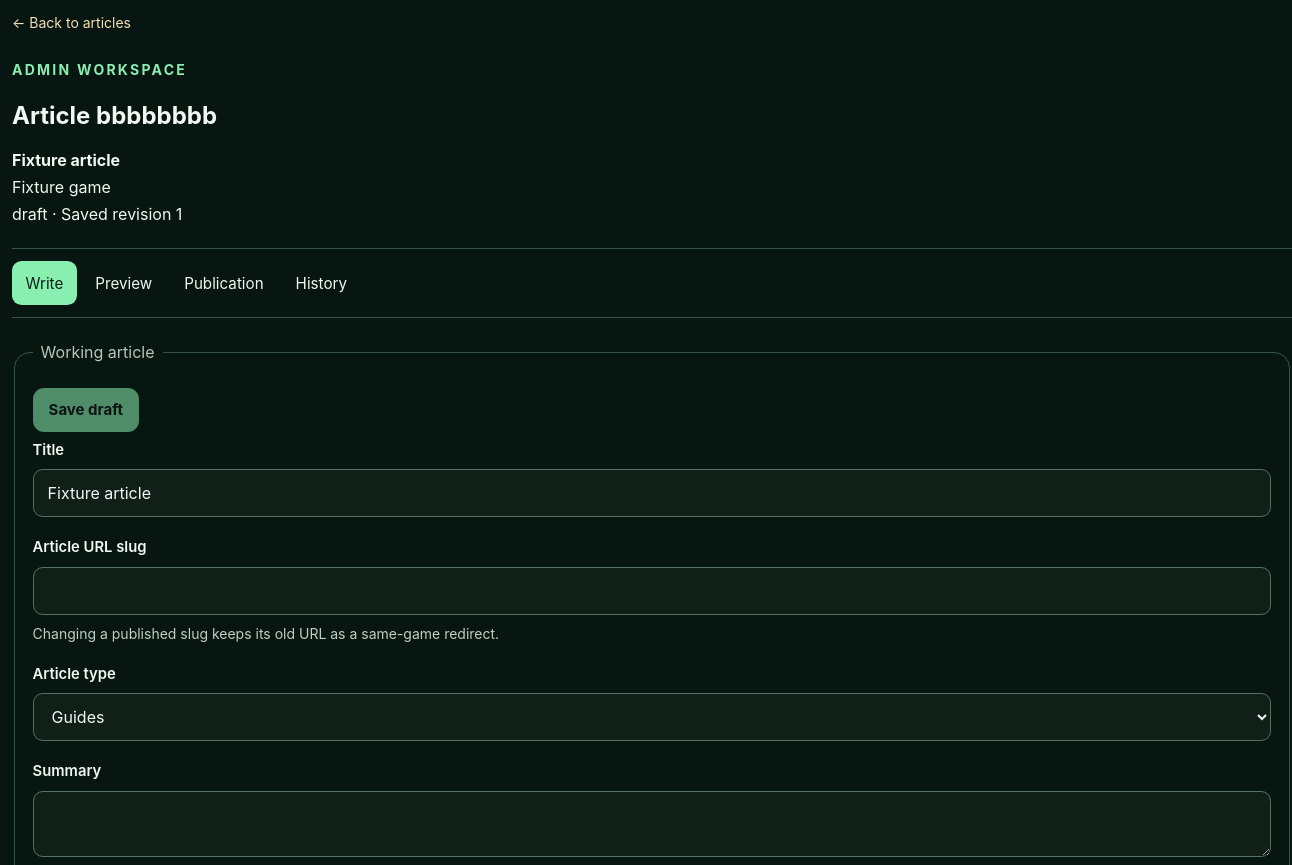
refreshes a revision conflict without overwriting the working draft
The width and height of the screenshot is (1292, 865).
Replace the text in the field labelled "Title" with "Keep this edit" at (652, 493), box x1=33 y1=469 x2=1271 y2=517
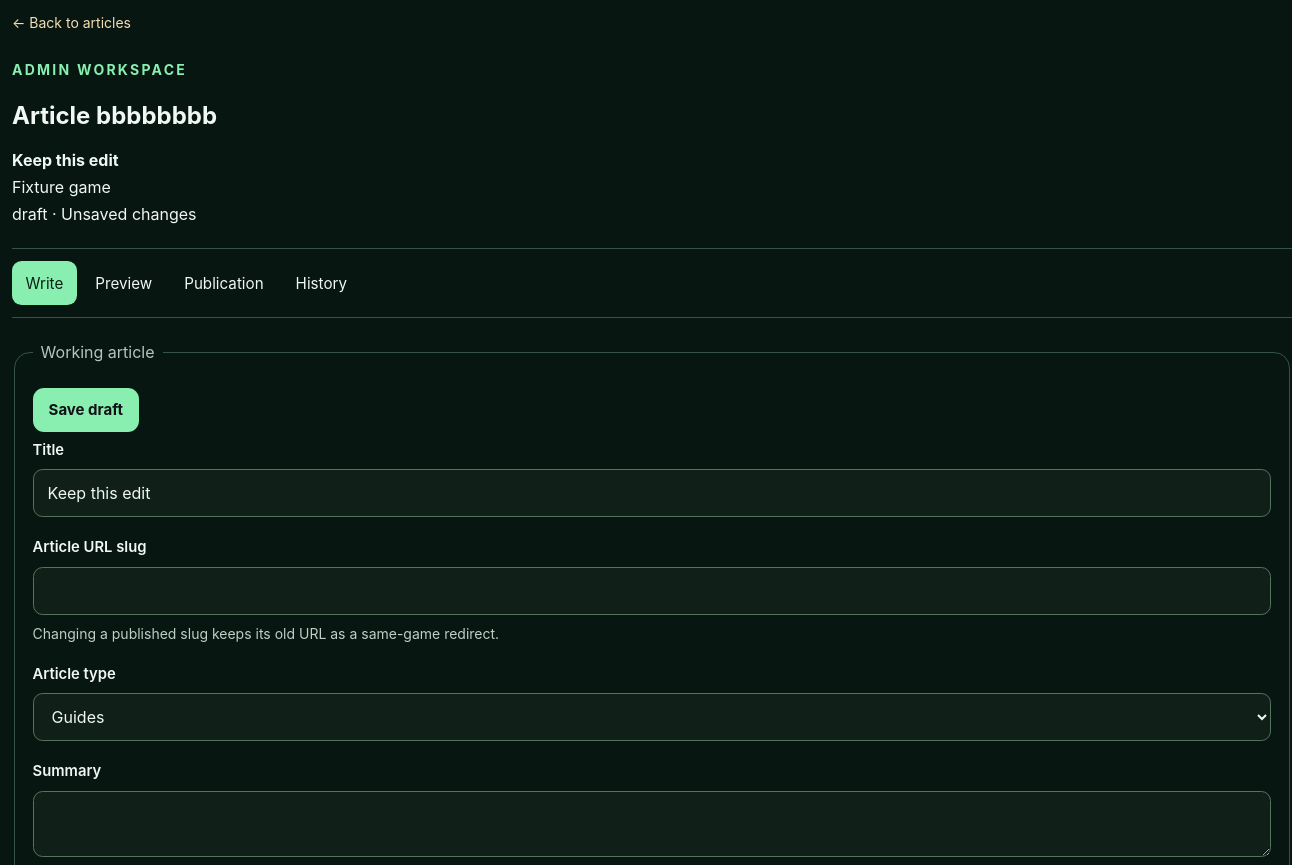
Click the button "Save draft" at (86, 410), box x1=33 y1=388 x2=139 y2=432
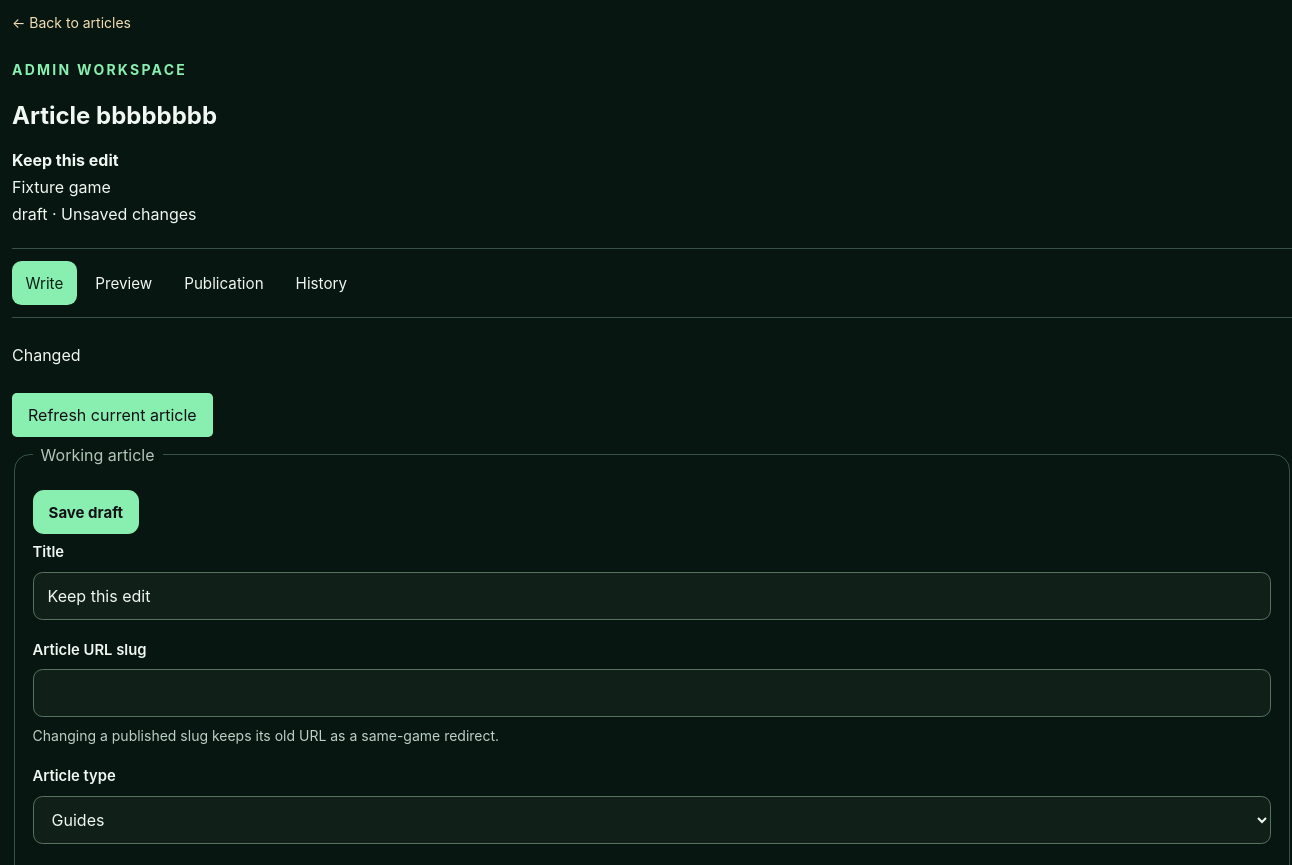
Expected: the button "Refresh current article" is shown, x1=12 y1=393 x2=213 y2=437
